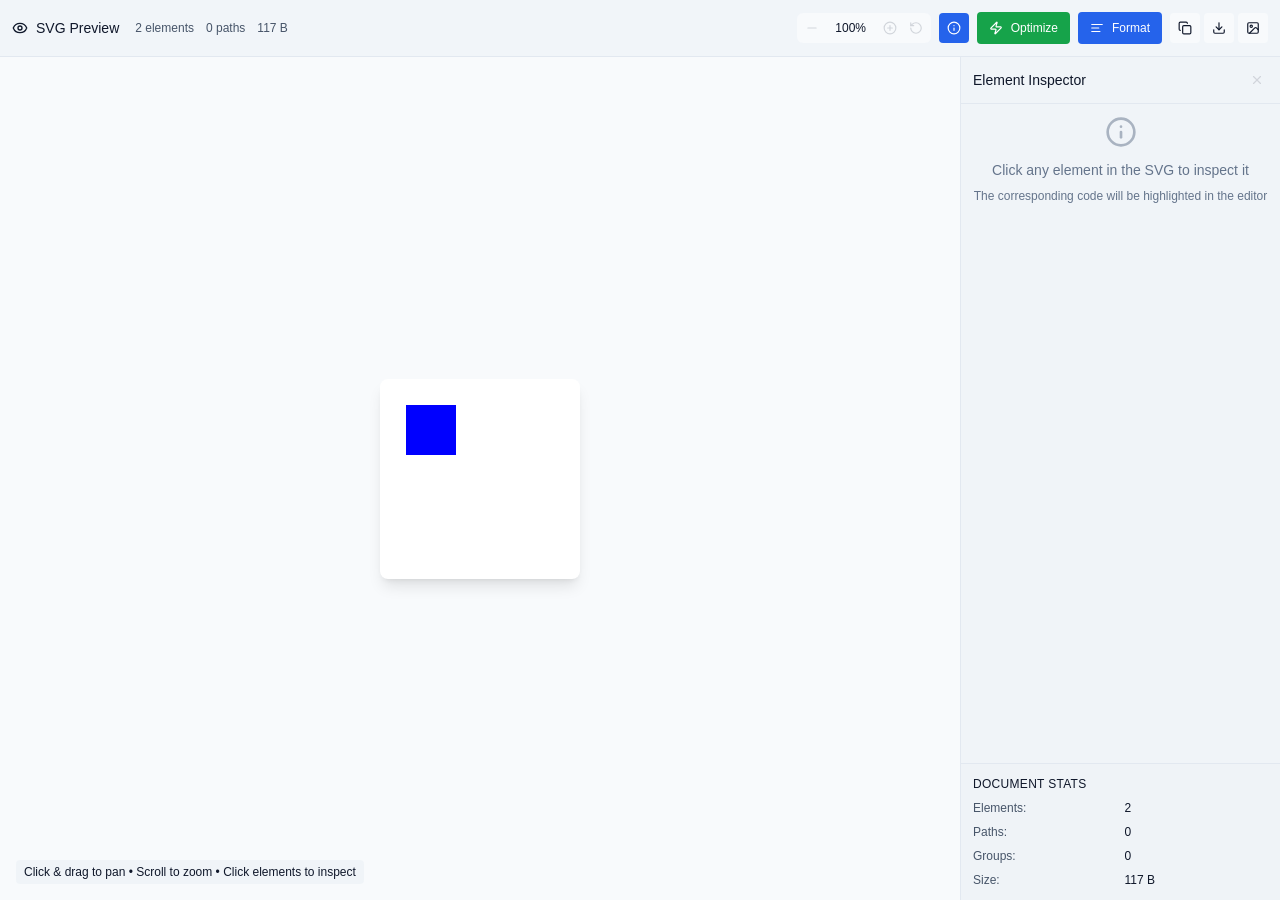
Test: SvgViewer › element inspection › should toggle inspector panel visibility
The width and height of the screenshot is (1280, 900).
Click the button titled "Hide Inspector": (954, 28) [939,13,969,43]
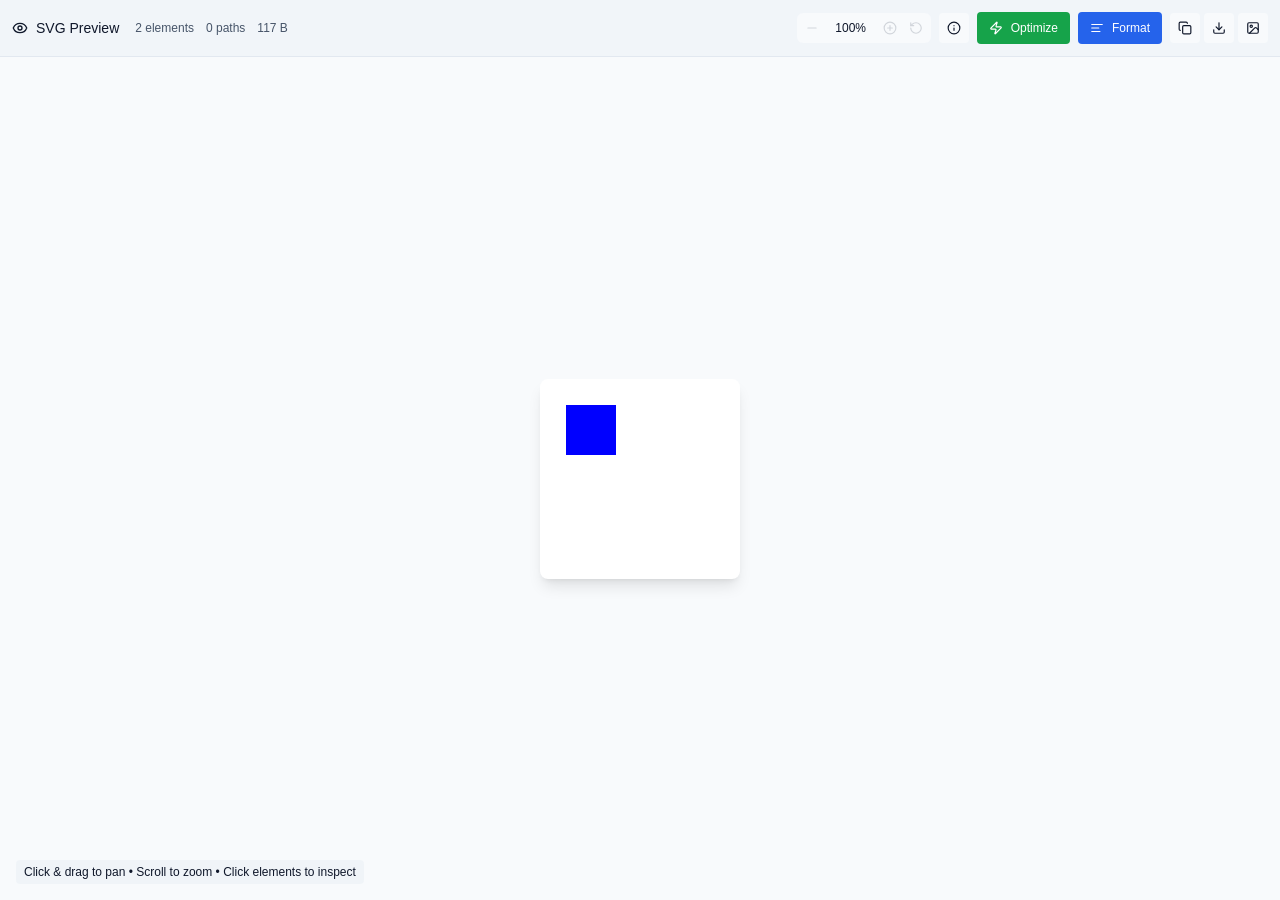
Result: the heading "Element Inspector" is gone
Click the button titled "Show Inspector": (954, 28) [939,13,969,43]
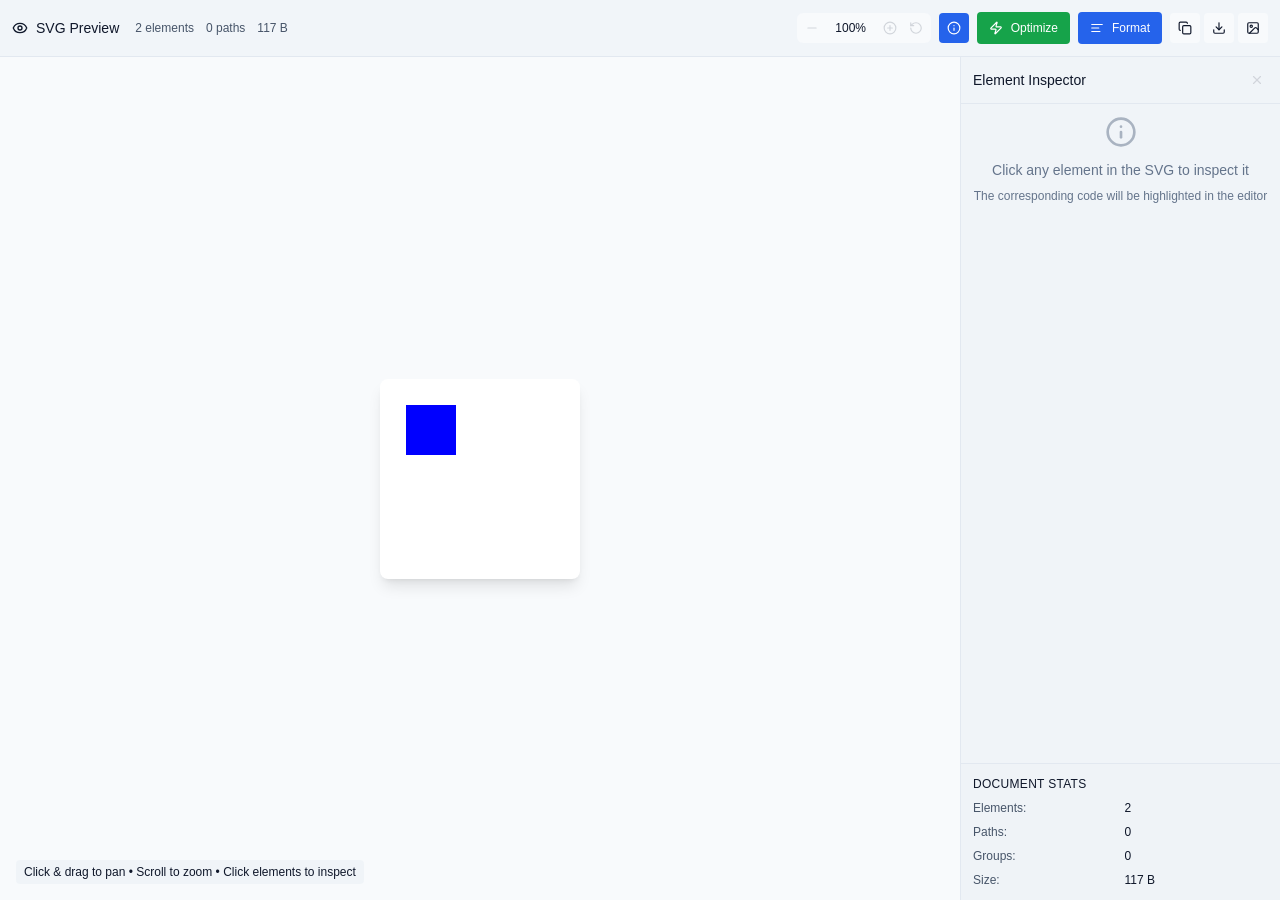
Result: the heading "Element Inspector" is shown at [973,70,1086,90]
